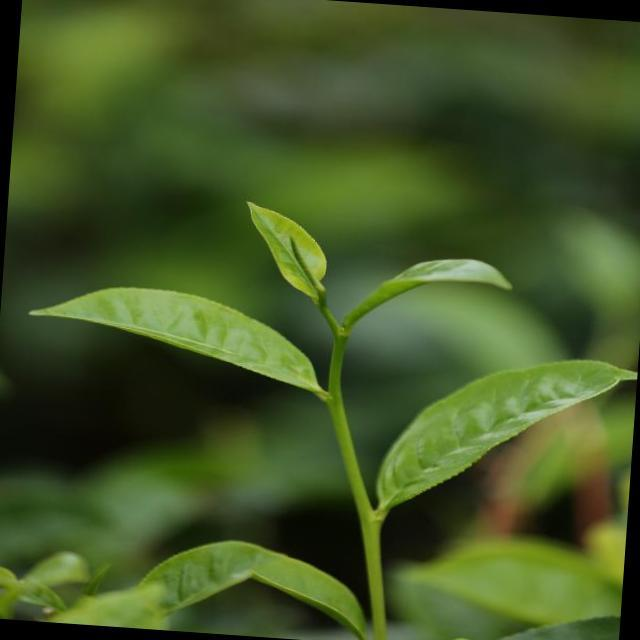Stem: (326, 398, 352, 448)
